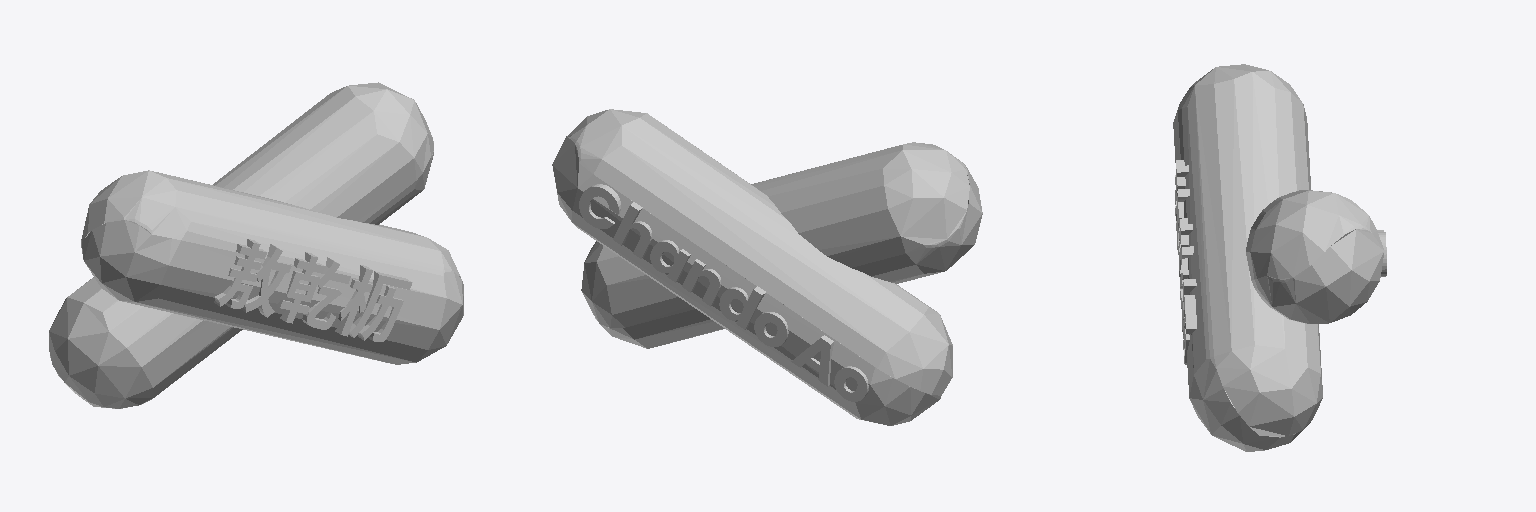
Rendered from ChandoAo.obj.
3 renders of one model, left to right at view 1: azimuth 30°, elevation 25°; view 2: azimuth 150°, elevation 25°; view 3: azimuth 270°, elevation 25°, orthographic.
Visible parts, largest first — view 1: root_3, root_2, node_id85; view 2: root_2, root_3, node_id94; view 3: root_3, root_2, node_id85.
Part boxes in pixels (bbox=[...]): root_3: bbox=[81, 170, 463, 364]; root_2: bbox=[49, 82, 433, 408]; node_id85: bbox=[214, 239, 412, 341]; root_2: bbox=[552, 109, 952, 425]; root_3: bbox=[581, 142, 982, 348]; node_id94: bbox=[579, 184, 868, 401]; root_3: bbox=[1173, 64, 1322, 451]; root_2: bbox=[1246, 190, 1383, 323]; node_id85: bbox=[1175, 160, 1196, 364].
Size of the model in its own units: 0.289 by 0.1836 by 0.1418.